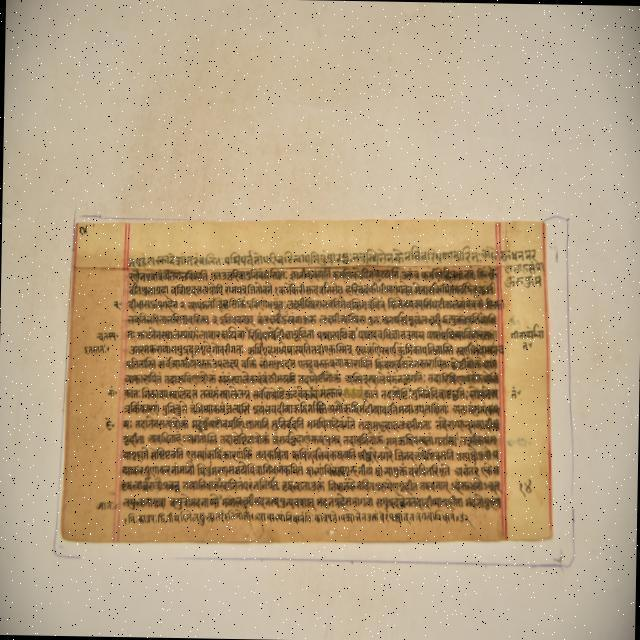text_paragraph: (59, 221, 550, 536)
